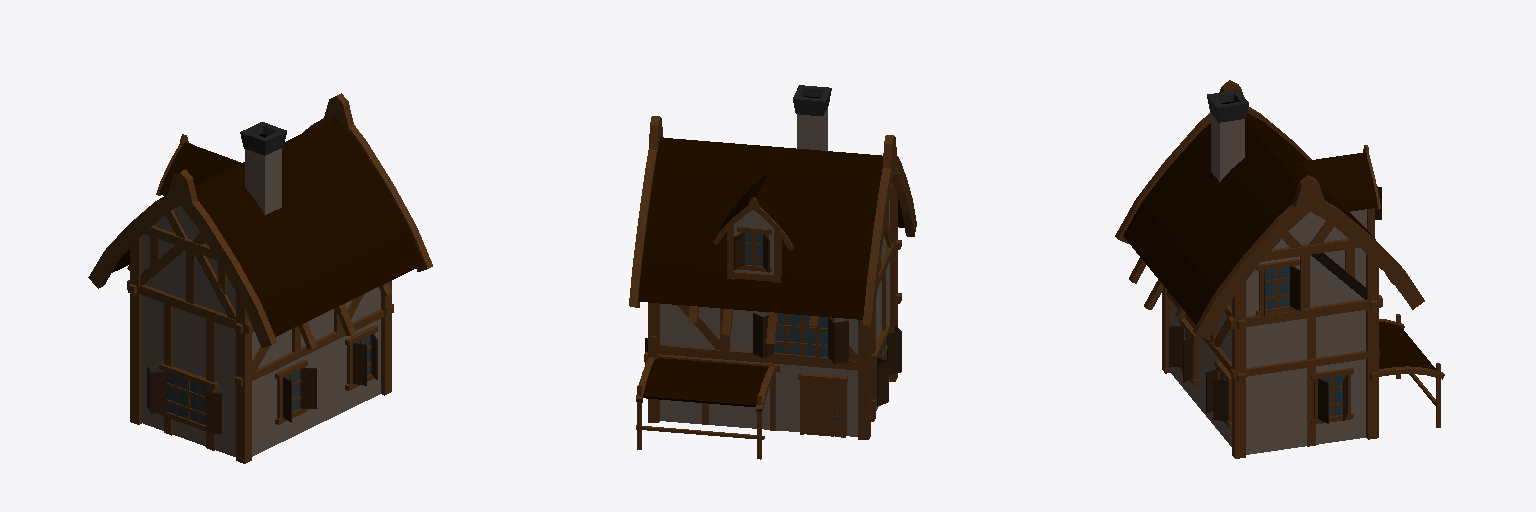
Rendered from business_norse.obj.
3 views of the same model, side by side, from view 1: azimuth 30°, elevation 25°; view 2: azimuth 150°, elevation 25°; view 3: azimuth 270°, elevation 25° (orthographic).
Parts seen in each view (by area): view 1: pCube6453_Untitled.030; view 2: pCube6453_Untitled.030; view 3: pCube6453_Untitled.030.
Part boxes in pixels (x1,y1,x2,y2): pCube6453_Untitled.030: (88, 93, 432, 463); pCube6453_Untitled.030: (629, 85, 916, 459); pCube6453_Untitled.030: (1115, 80, 1444, 458).
Bounding box in the file's own units: 12.15 × 12.69 × 12.83.